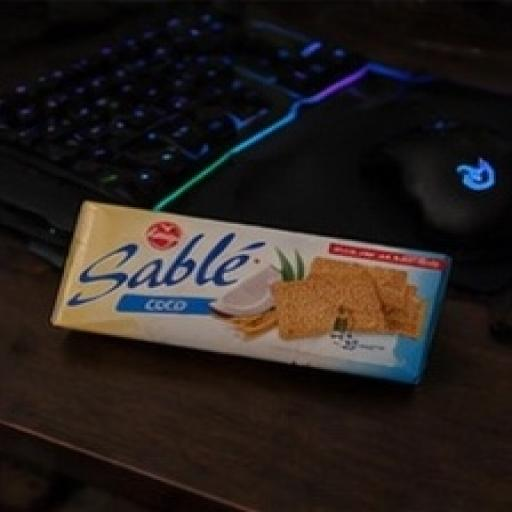sable: (18, 155, 477, 429)
